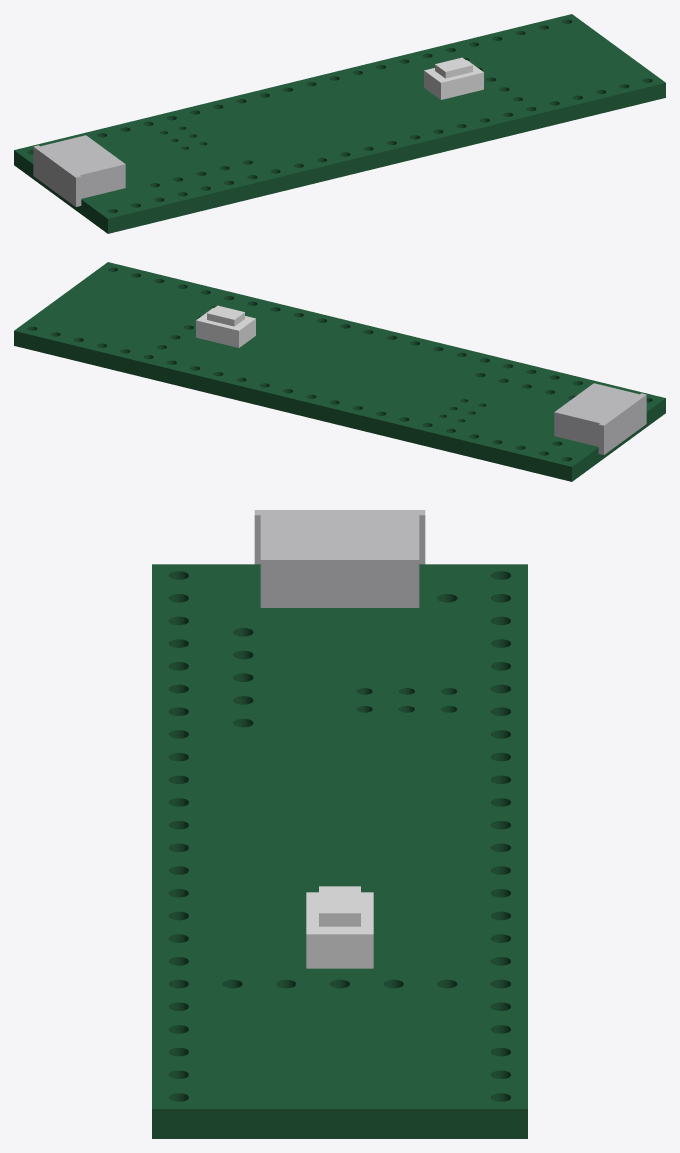
File: teensy-41.glb
3 renders of one model, top to bottom at view 1: azimuth 30°, elevation 25°; view 2: azimuth 150°, elevation 25°; view 3: azimuth 270°, elevation 25°, orthographic. The views are drawn at different scales.
Parts seen in each view (by area): view 1: teensy-41; view 2: teensy-41; view 3: teensy-41.
Part boxes in pixels (x1,y1,x2,y2): teensy-41: (14, 14, 665, 233); teensy-41: (14, 262, 665, 481); teensy-41: (152, 510, 527, 1138).
Bounding box in the file's own units: 61.66 × 4.07 × 17.78.
